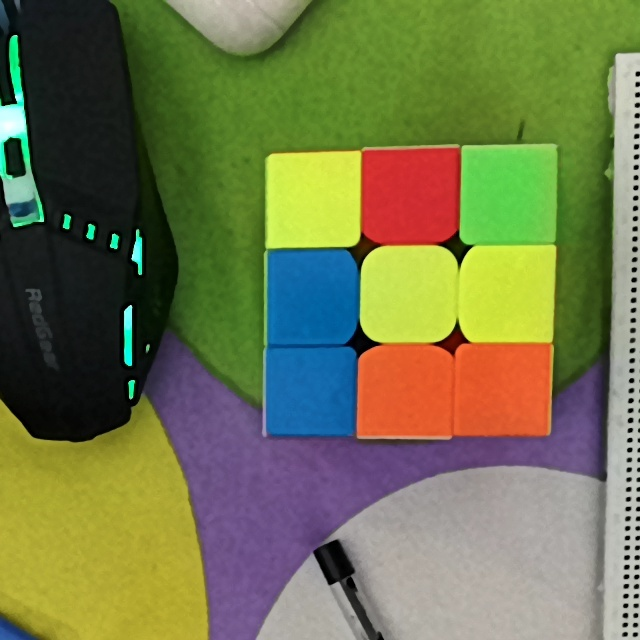tile: (465, 149, 551, 240), (366, 151, 453, 235), (458, 352, 547, 432), (364, 353, 447, 436), (271, 159, 355, 240), (270, 256, 349, 338), (267, 352, 350, 430), (472, 256, 550, 336), (373, 257, 448, 331)
